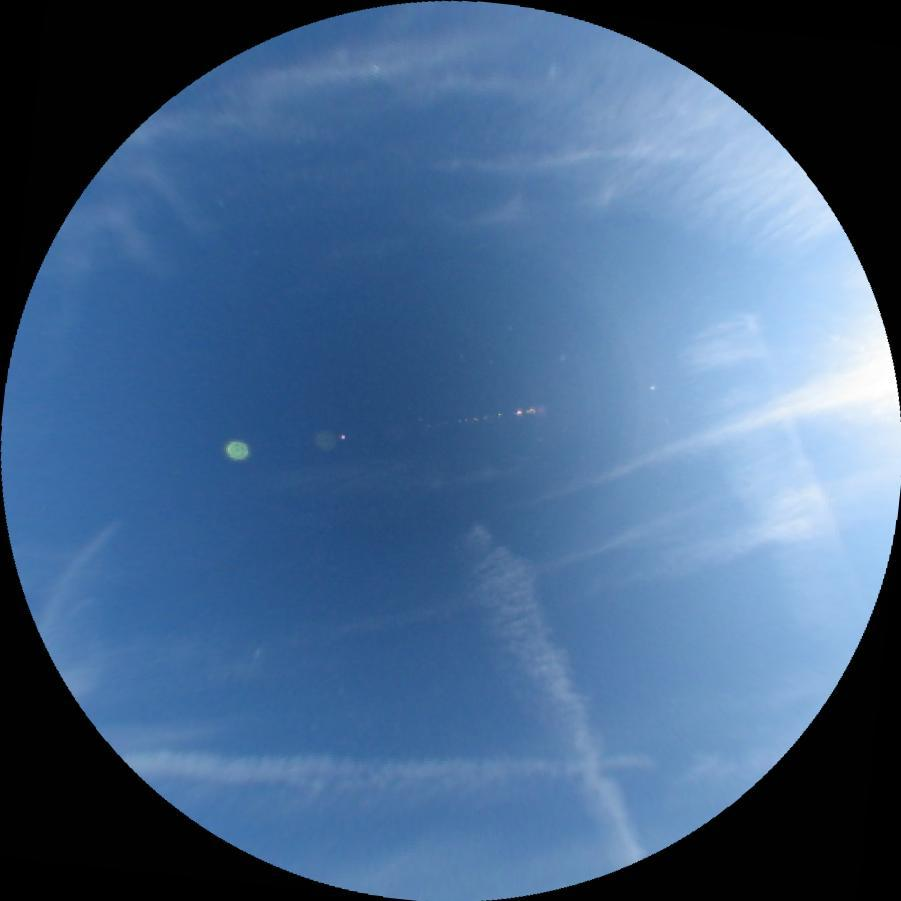contrail veryold: (668, 300, 888, 661), (447, 505, 656, 878), (117, 748, 787, 802)
